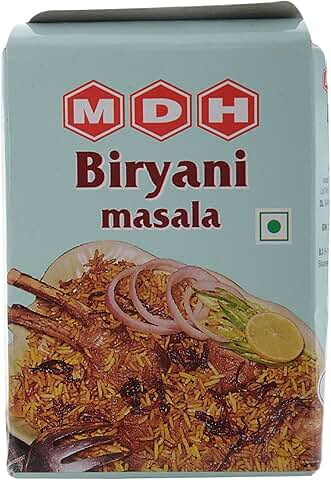Biryani: (9, 22, 331, 478)
